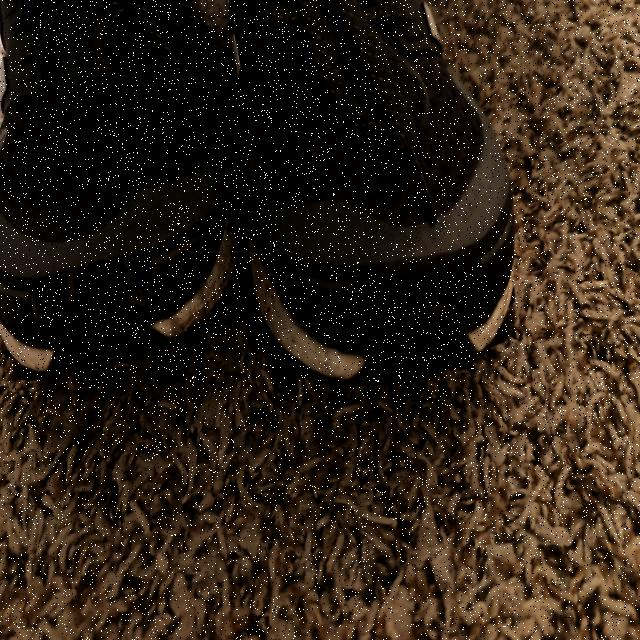black shoes: (9, 0, 488, 344)
